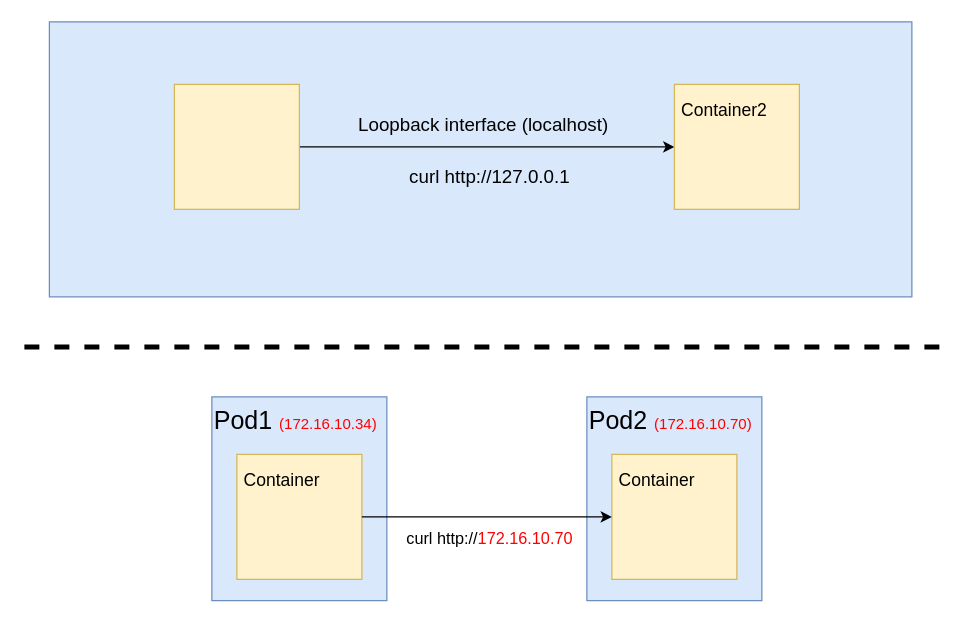
Image size: 974x623. Some labels were removed from this diagram. The shapes that lost their labels are listed below. From the top down, each one's box as (x1, y1, x2, y2) in pixels, then its label:
(173, 83, 299, 209): Container1
(48, 21, 912, 297): Pod
